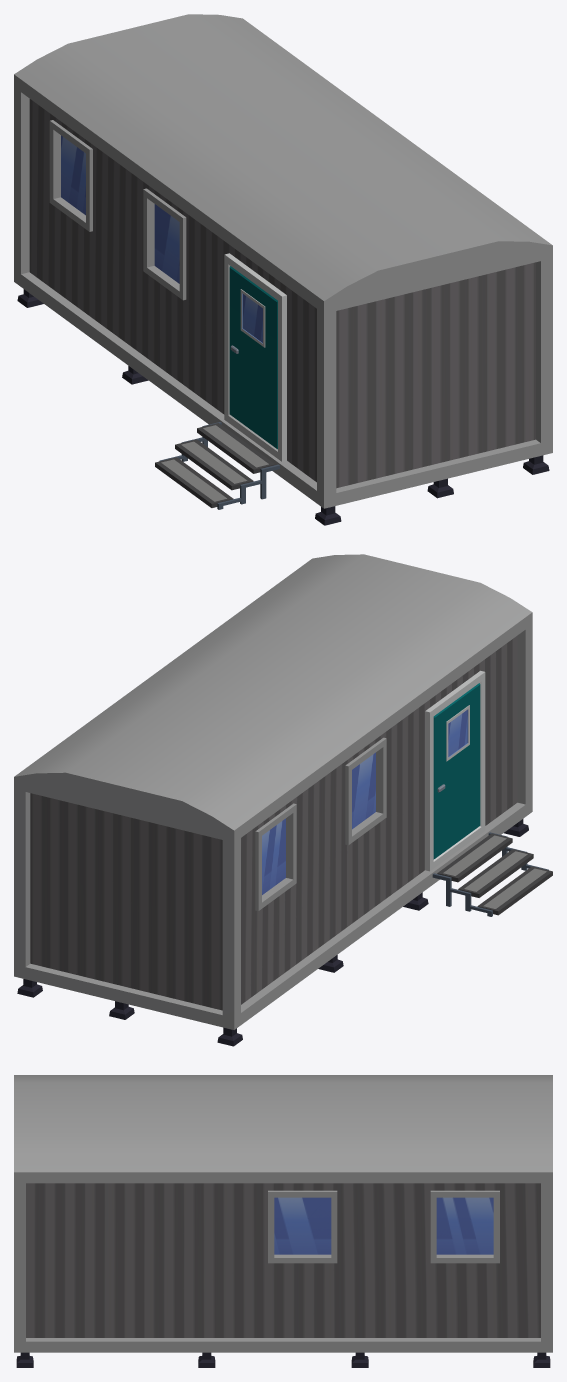
File: TrailerC_1_E.fbx
The picture shows the model from 3 angles, top to bottom: view 1: azimuth 30°, elevation 25°; view 2: azimuth 150°, elevation 25°; view 3: azimuth 270°, elevation 25°; orthographic projection. The views are drawn at different scales.
Parts seen in each view (by area): view 1: TrailerC_1_E; view 2: TrailerC_1_E; view 3: TrailerC_1_E.
Boxes of the visible parts, left/top/right/bottom form: TrailerC_1_E: left=14, top=14, right=552, bottom=525; TrailerC_1_E: left=14, top=554, right=552, bottom=1046; TrailerC_1_E: left=14, top=1075, right=552, bottom=1367.
Size of the model in its own units: 330 by 260 by 599.
